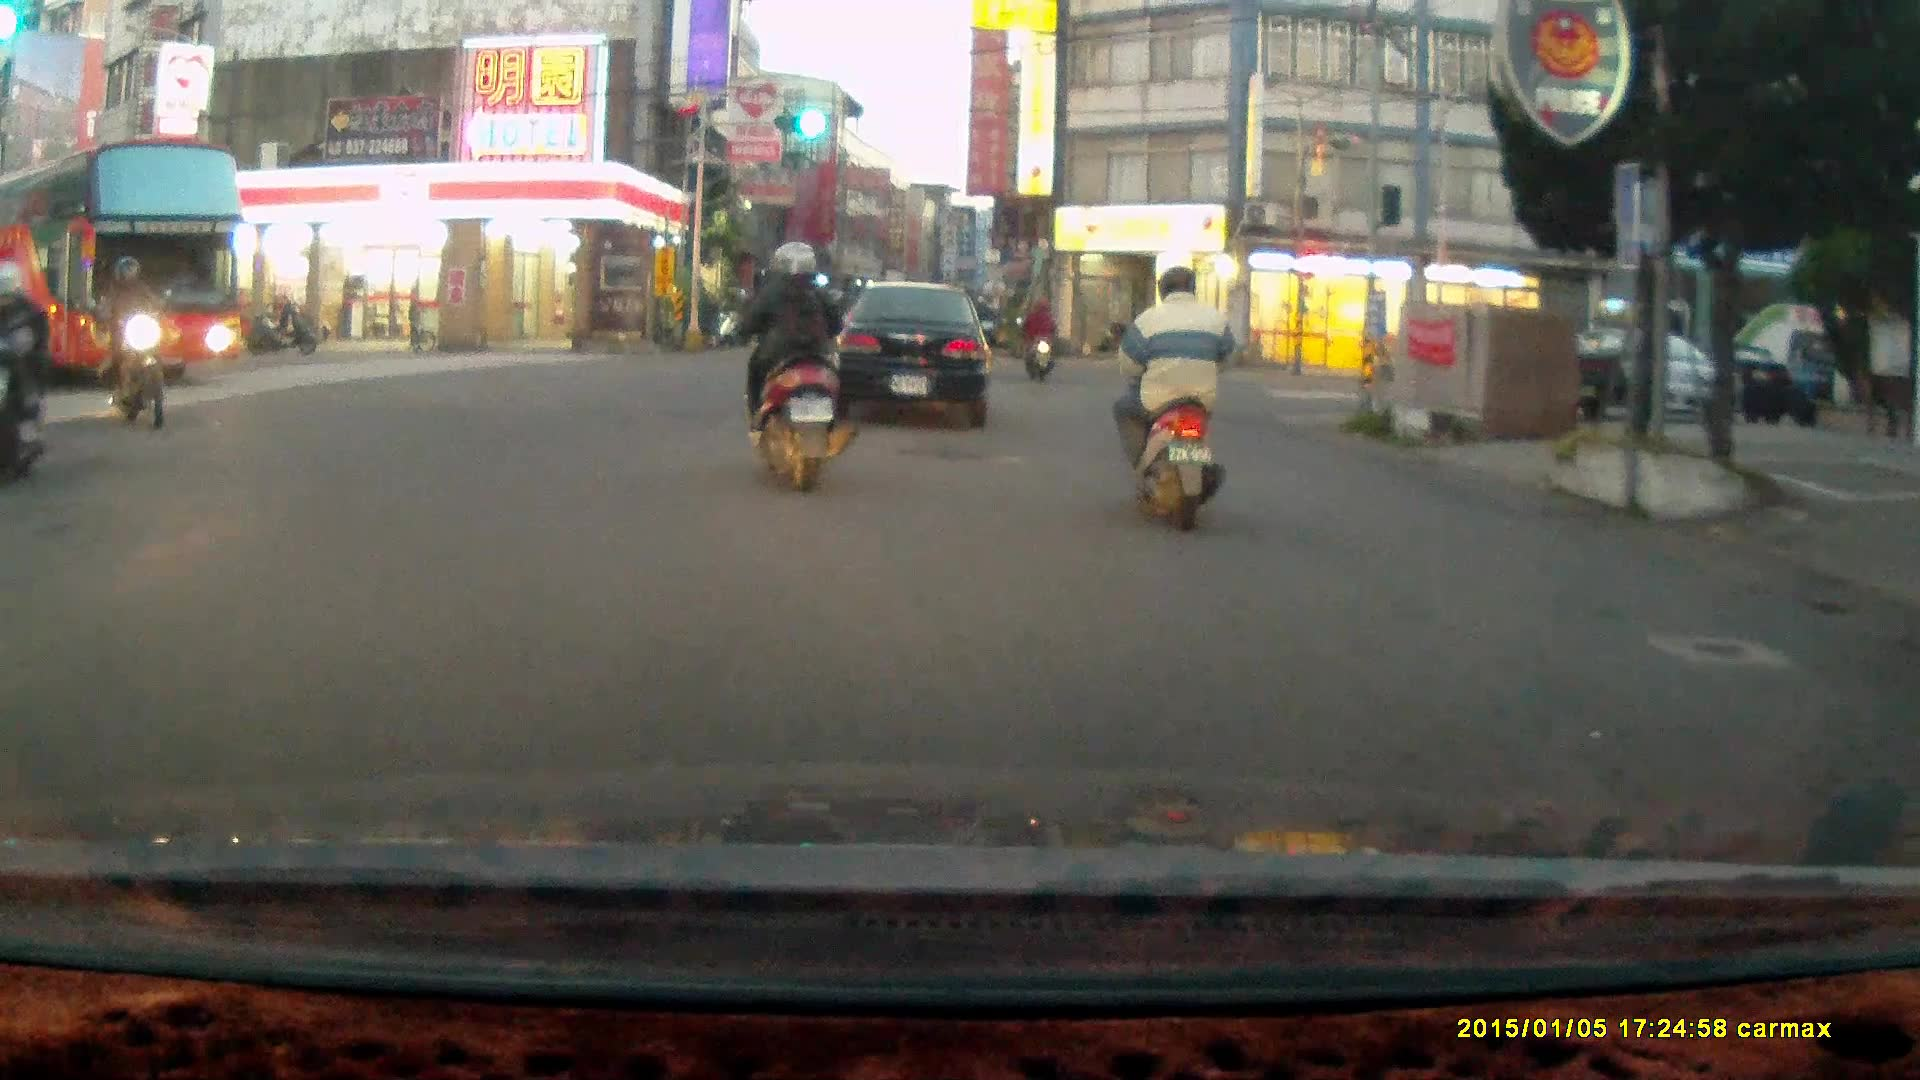rider: (731, 234, 857, 492), (1107, 263, 1223, 535), (91, 252, 167, 432), (0, 260, 46, 498), (1019, 295, 1057, 381)
vehicle: (1, 143, 237, 396), (1503, 315, 1746, 420), (829, 280, 995, 429)
